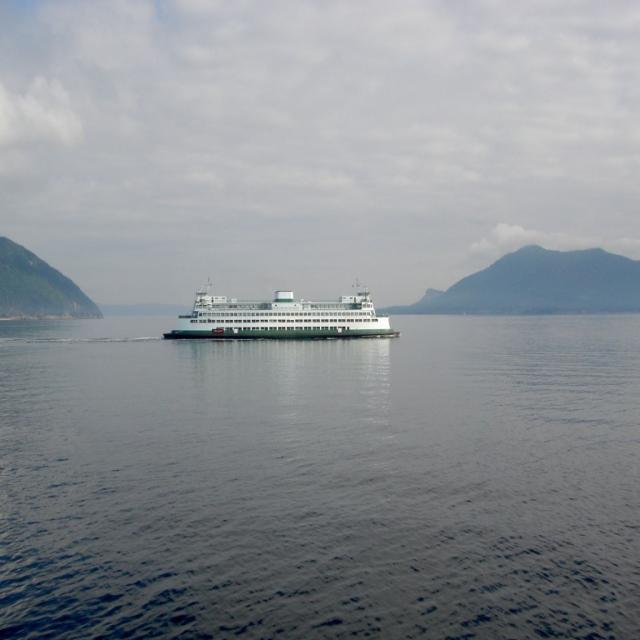passenger ship: (161, 284, 391, 348)
